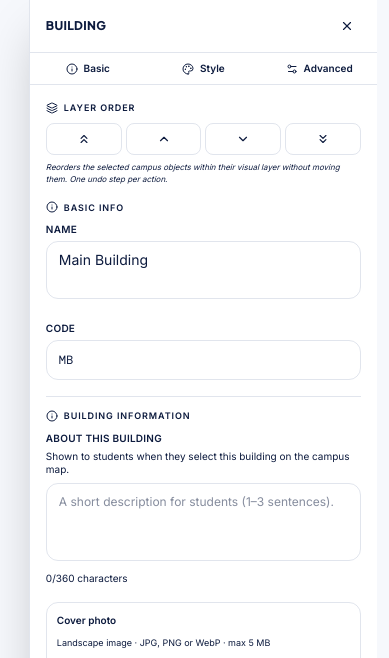
Test case: Building Navigation summary and identity drafts › shows a single valid entrance link as connected
The width and height of the screenshot is (389, 658).
Step 1. Click the button "Advanced" → {"x": 319, "y": 68}, box [261,53,377,84]
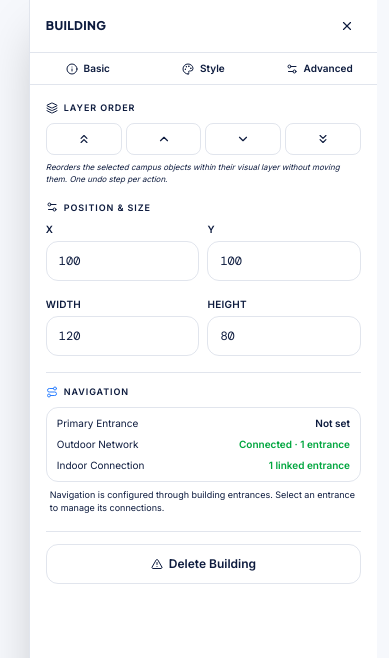
expect the text "Connected · 1 entrance" is shown: met, box [239,436,350,452]
